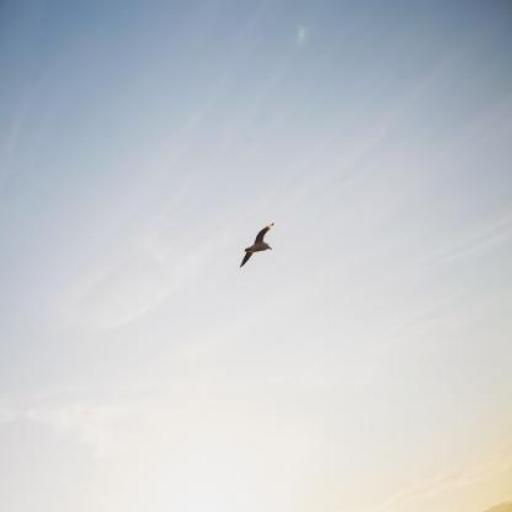bird: (240, 223, 276, 268)
